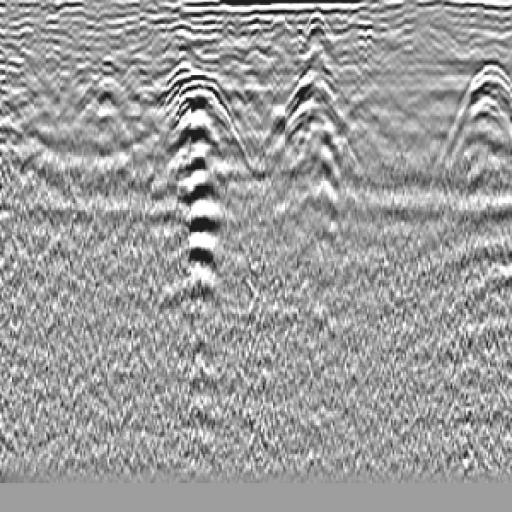metalic: (253, 35, 371, 245)
nonmetalic: (151, 39, 240, 345), (430, 53, 512, 205)
